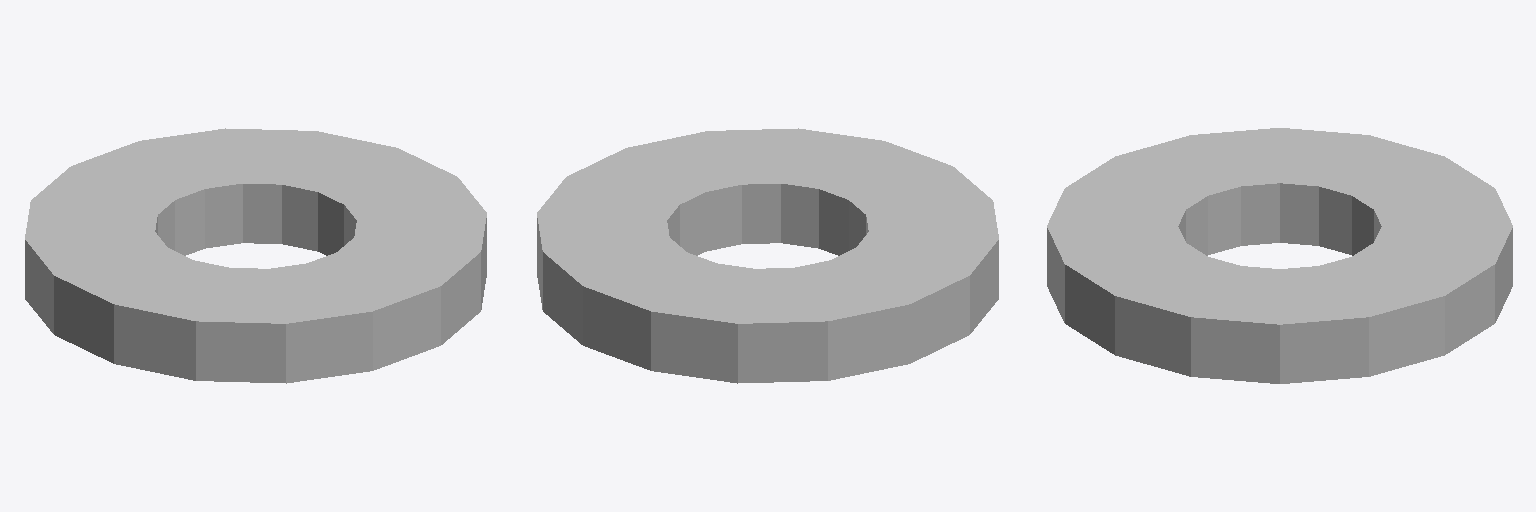
The model's file is flat_torus_thick.obj.
3 views of the same model, side by side, from view 1: azimuth 30°, elevation 25°; view 2: azimuth 150°, elevation 25°; view 3: azimuth 270°, elevation 25° (orthographic).
Parts seen in each view (by area): view 1: flat_torus_thick_Cube.005; view 2: flat_torus_thick_Cube.005; view 3: flat_torus_thick_Cube.005.
Boxes of the visible parts, x1,y1,x2,y2 form: flat_torus_thick_Cube.005: [25, 128, 486, 383]; flat_torus_thick_Cube.005: [537, 128, 998, 383]; flat_torus_thick_Cube.005: [1047, 128, 1512, 383].
Size of the model in its own units: 7.09 by 1 by 7.09.